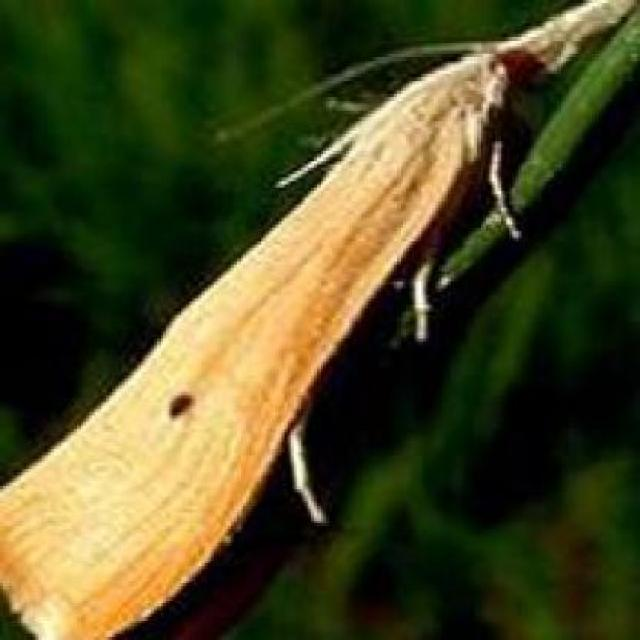stem-borer: (0, 0, 634, 638)
